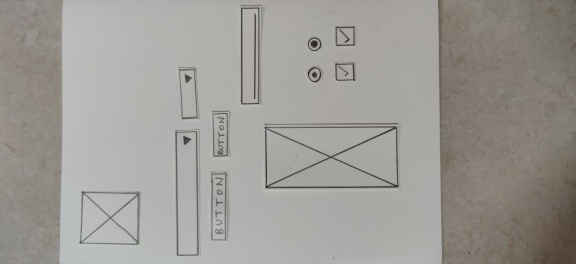button: (207, 169, 232, 244), (208, 108, 233, 160)
checkbox: (332, 23, 359, 49), (332, 59, 358, 83)
dropdown: (170, 126, 203, 261), (172, 63, 204, 121)
img: (259, 120, 403, 192), (76, 187, 143, 249)
radio: (304, 64, 324, 86), (305, 34, 323, 56)
text: (236, 4, 263, 107)
